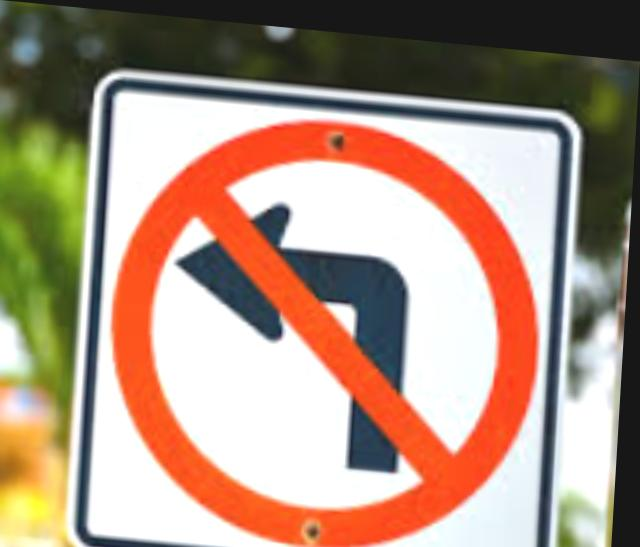not_turn_left: (99, 97, 562, 547)
